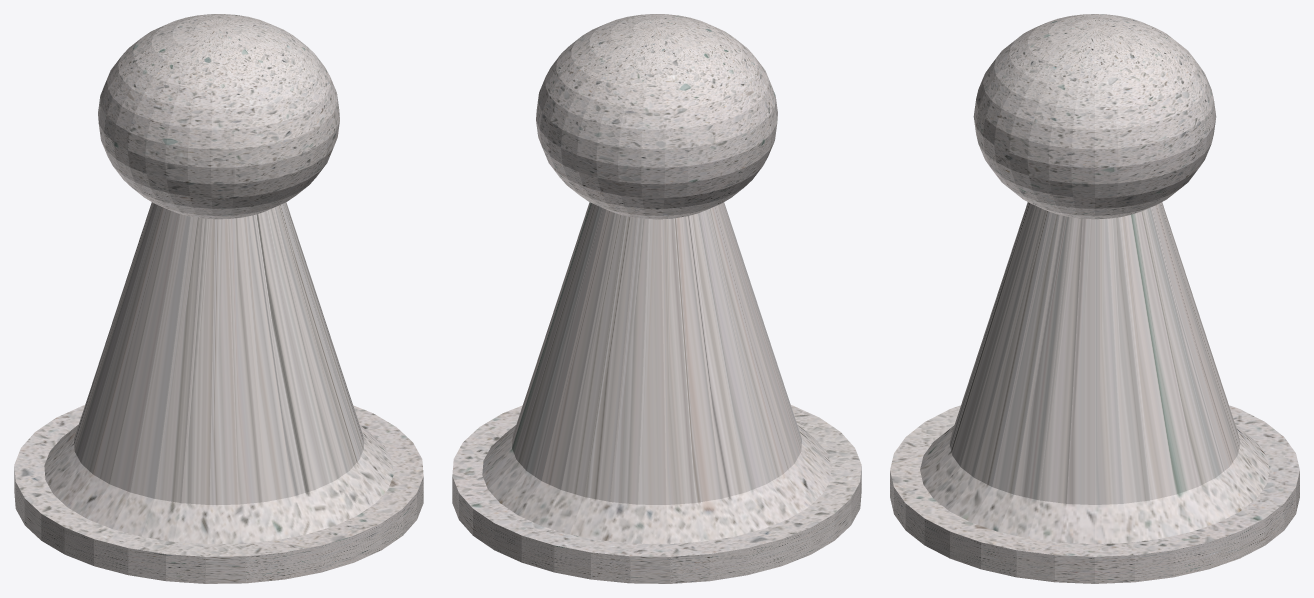
The model's file is WhitePawn.fbx.
The picture shows the model from 3 angles, left to right: view 1: azimuth 30°, elevation 25°; view 2: azimuth 150°, elevation 25°; view 3: azimuth 270°, elevation 25°; orthographic projection.
Parts seen in each view (by area): view 1: Cylinder; view 2: Cylinder; view 3: Cylinder.
Boxes of the visible parts, x1,y1,x2,y2 form: Cylinder: [14, 14, 423, 583]; Cylinder: [452, 14, 861, 583]; Cylinder: [890, 14, 1299, 583].
Size of the model in its own units: 200 by 253 by 200.
